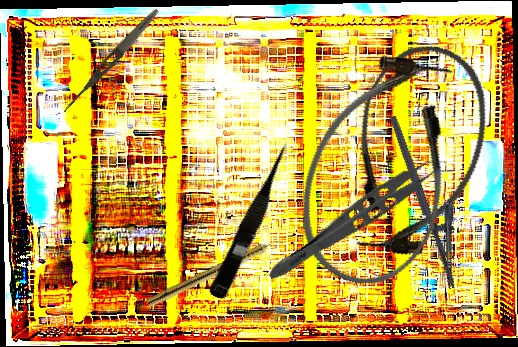Cannula: (279, 37, 483, 303), (327, 31, 506, 270)
Dressing Forceps: (60, 5, 162, 117)
Handpiece: (145, 234, 285, 311)
Micro Scissor: (207, 137, 300, 303)
Needle Holder: (388, 107, 480, 290)
Tissue Forceps: (263, 144, 455, 297)
